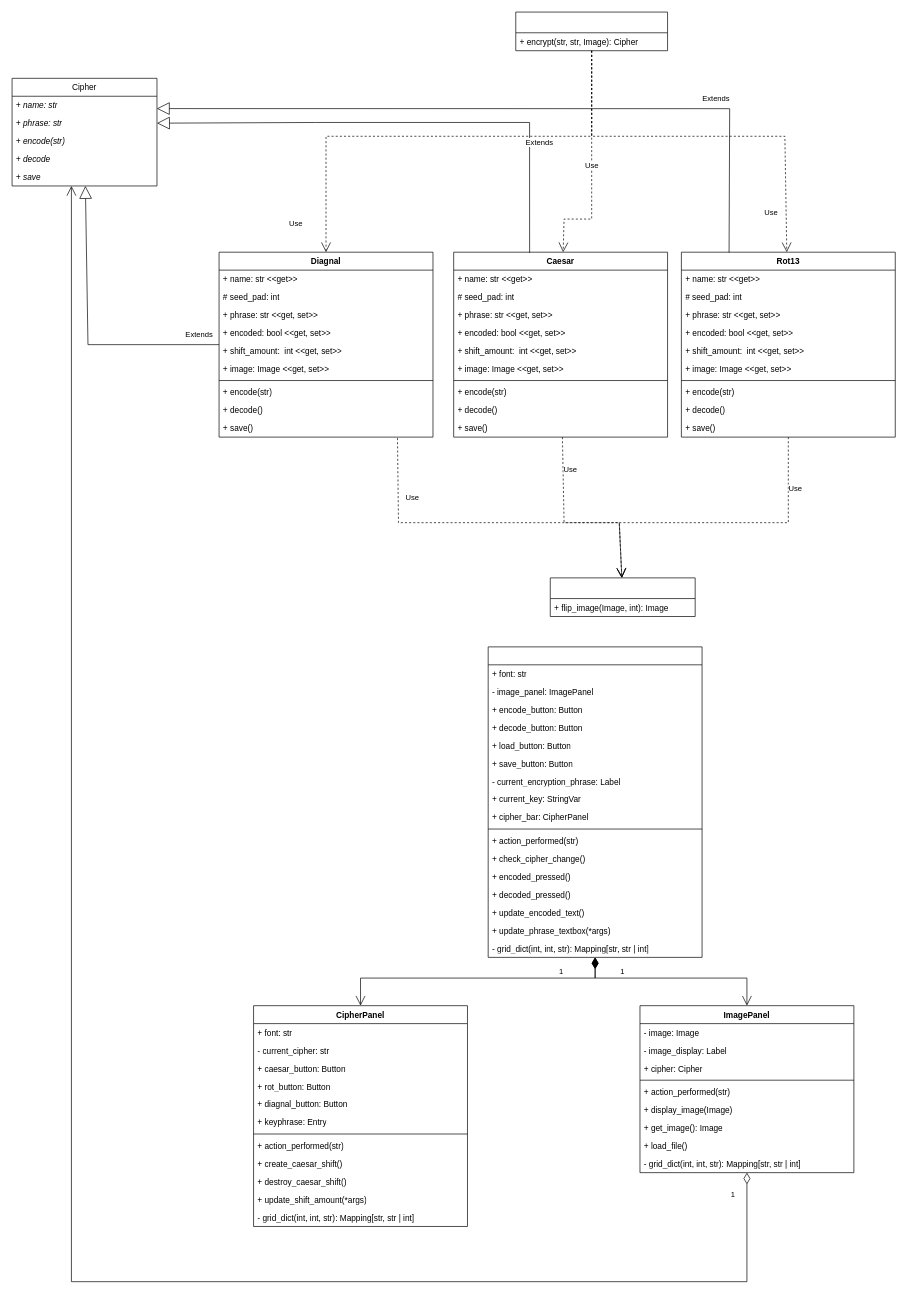
Some shapes in this 907 by 1305 pixel diagram are drawn without their labels. The shapes that lost their labels are listed below. From the top down, each one's box as (x1, y1, x2, y2) in pixels, then its label:
(515, 11, 668, 51): <<static>> CipherFactory
(550, 577, 695, 617): <<static>> CipherImage
(487, 646, 702, 957): MainWindow
